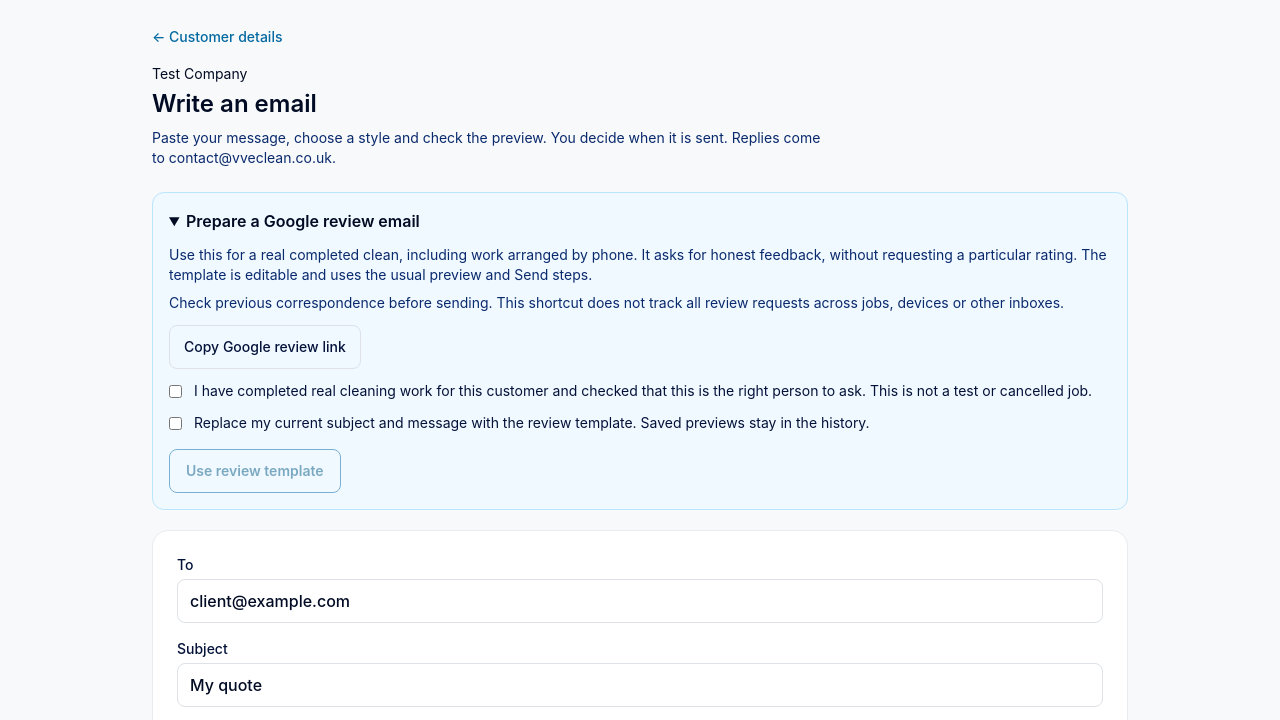
it: customer email composer › keeps an existing message until its replacement is explicitly confirmed
Expected: the text "Test Company" is shown, left=152, top=65, right=247, bottom=82
Click the checkbox labelled "I have completed real cleaning work": {"x": 176, "y": 392} left=169, top=385, right=182, bottom=398
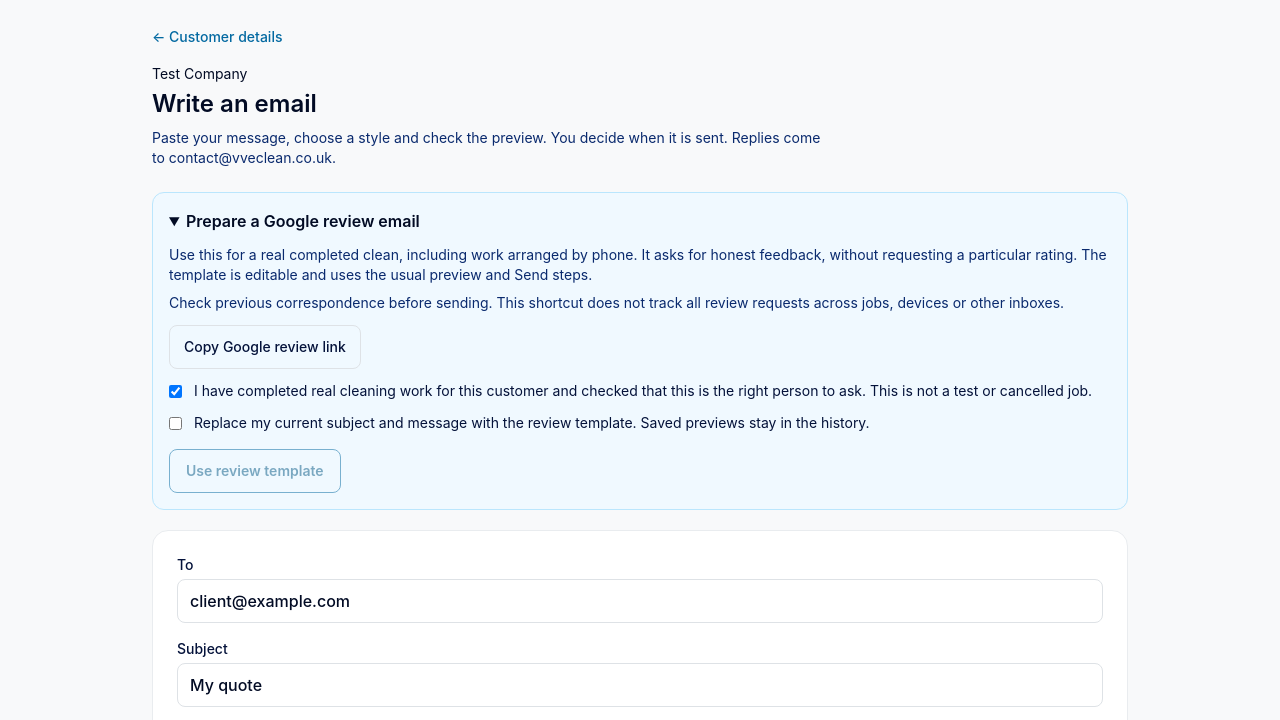
Expected: the button "Use review template" is disabled, left=169, top=449, right=340, bottom=493
Click the checkbox labelled "Replace my current subject": {"x": 176, "y": 424} left=169, top=417, right=182, bottom=430
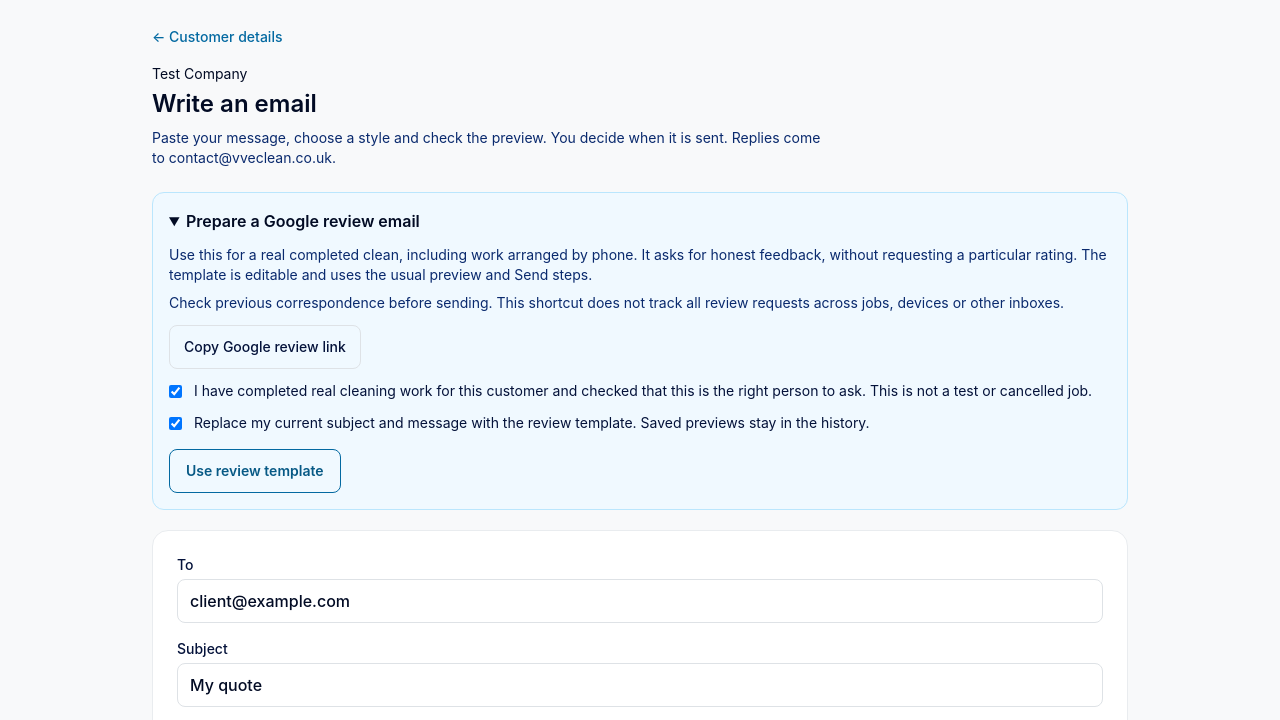
Click the button "Use review template": {"x": 255, "y": 471} left=169, top=449, right=340, bottom=493
(page scrolled)
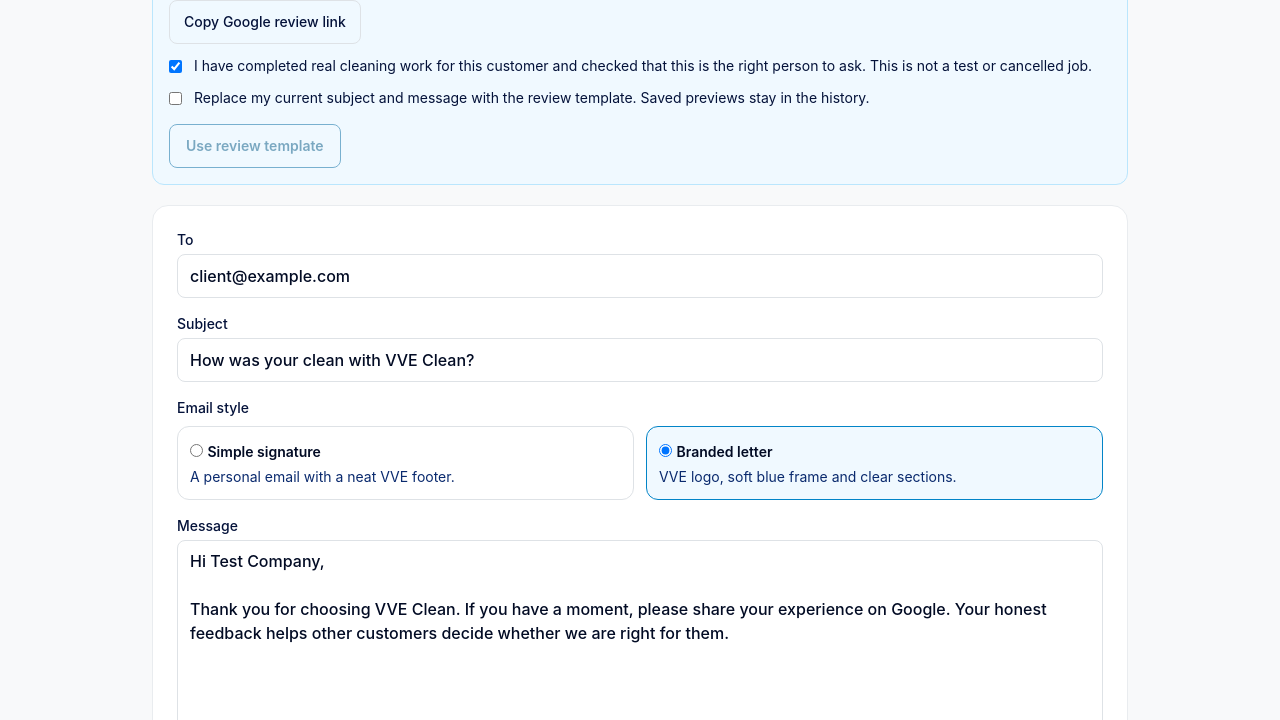
Expected: the field labelled "Subject" holds "How was your clean with VVE Clean?", left=177, top=338, right=1103, bottom=382
